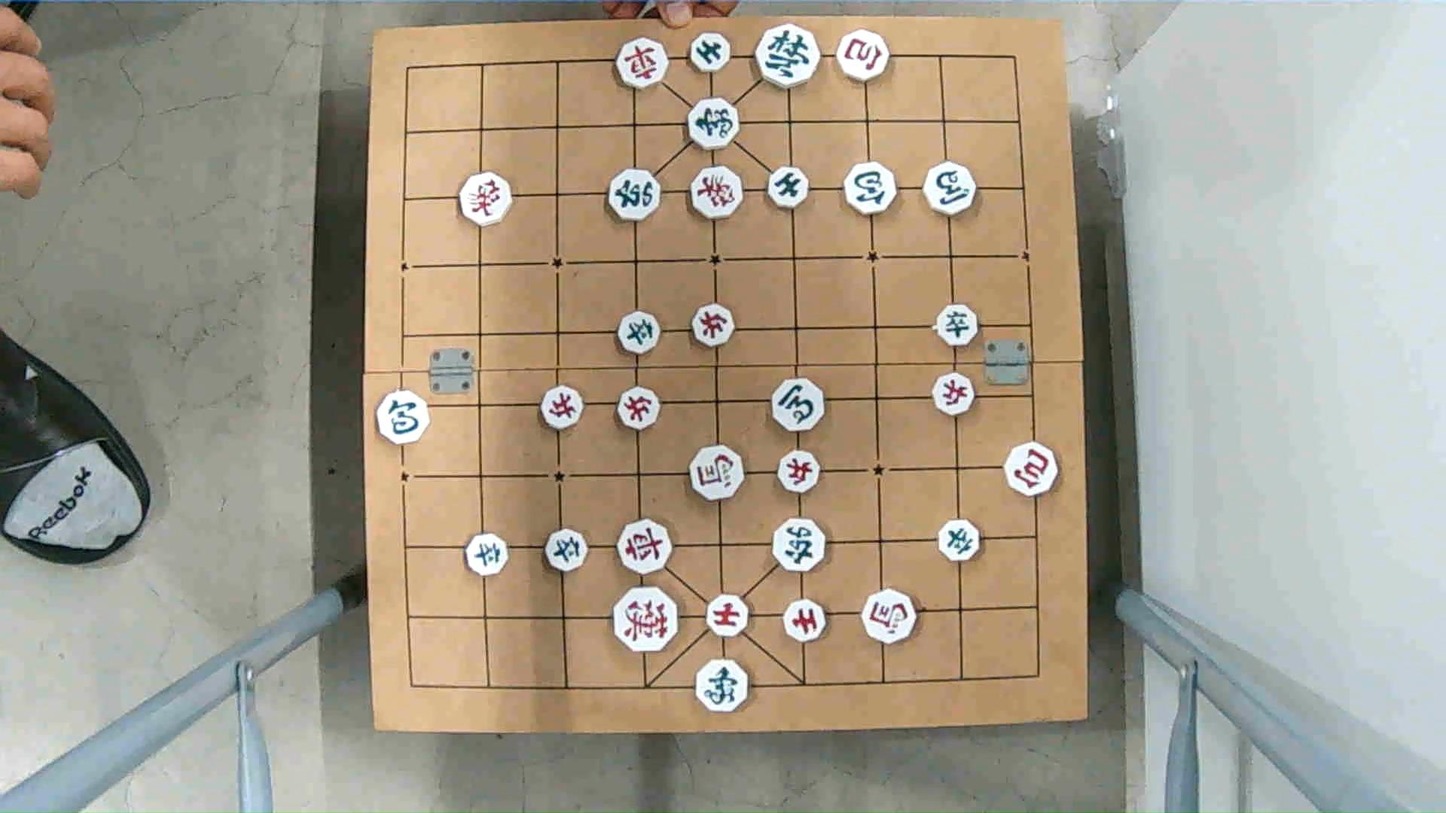cha_green: (771, 518, 825, 573), (608, 170, 665, 219)
cha_red: (617, 522, 673, 574), (615, 40, 667, 87)
jol_green: (617, 309, 662, 352), (546, 529, 590, 572), (465, 535, 513, 574), (933, 306, 981, 344), (937, 522, 984, 560)
jol_red: (776, 451, 825, 490), (538, 388, 587, 426), (930, 376, 978, 414), (691, 306, 739, 344), (613, 389, 661, 426)
ma_green: (769, 381, 828, 431), (923, 164, 979, 215)
ma_red: (859, 592, 918, 642), (690, 447, 746, 498)
po_green: (842, 164, 899, 213), (373, 393, 430, 441)
po_red: (835, 33, 892, 79), (1005, 446, 1058, 494)
sa_green: (766, 169, 812, 207), (690, 33, 730, 70)
sa_red: (704, 598, 755, 637), (783, 600, 828, 644)
sang_green: (686, 97, 742, 148), (697, 660, 749, 712)
sang_red: (458, 172, 515, 221), (688, 166, 745, 215)
wang_green: (753, 27, 822, 86)
wang_red: (612, 593, 682, 650)
